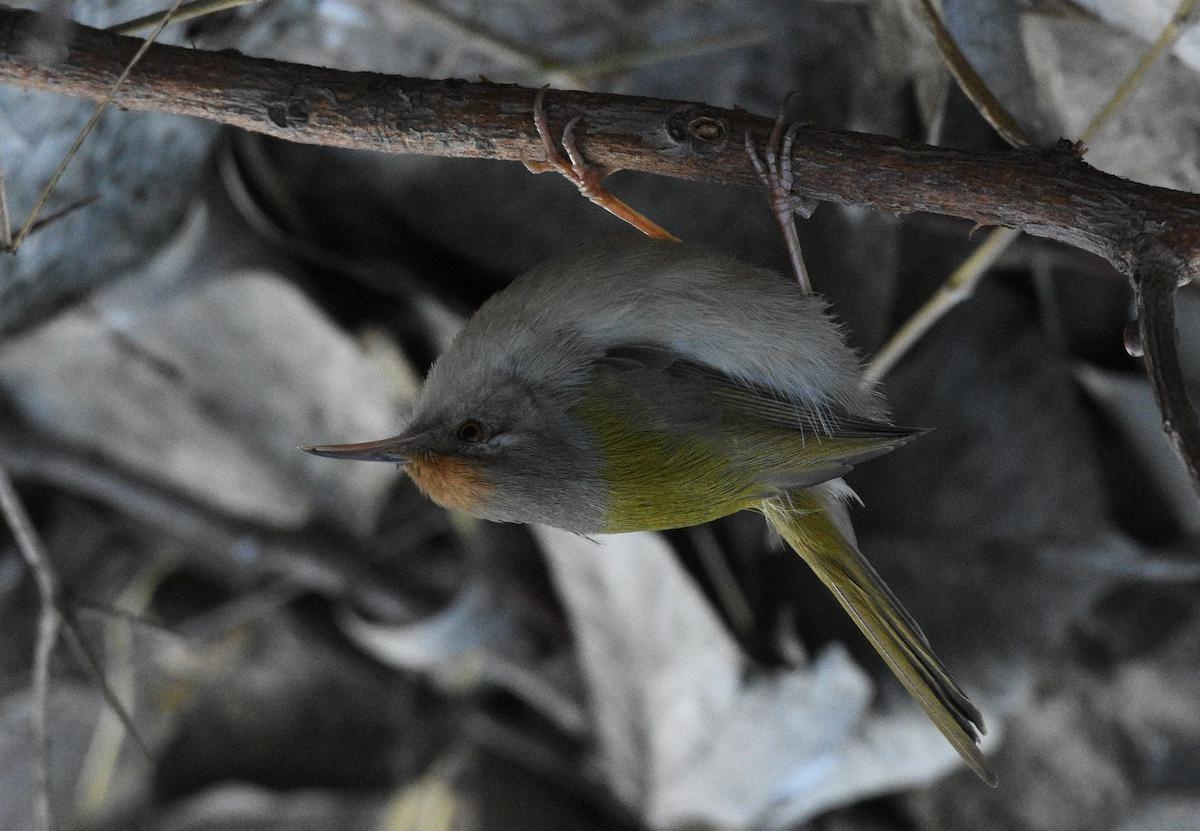tailorbird: (280, 141, 975, 710)
